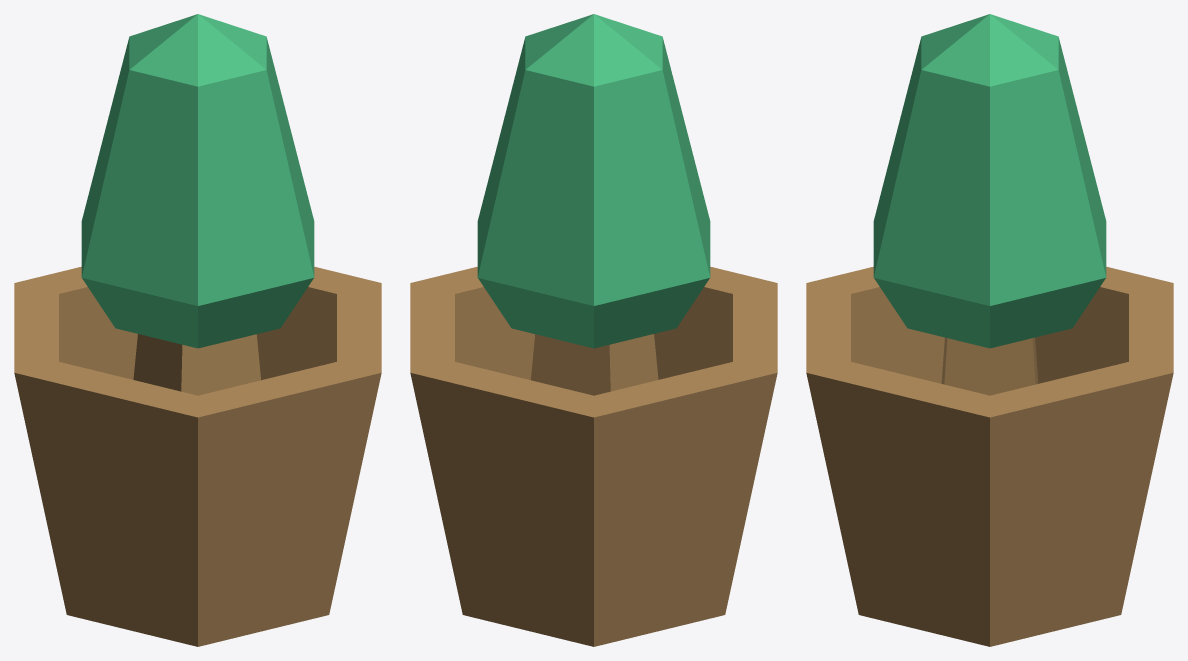
File: plantSmall3.glb
3 views of the same model, side by side, from view 1: azimuth 30°, elevation 25°; view 2: azimuth 150°, elevation 25°; view 3: azimuth 270°, elevation 25° (orthographic).
Visible parts, largest first — view 1: plantSmall3; view 2: plantSmall3; view 3: plantSmall3.
Part boxes in pixels (bbox=[...]): plantSmall3: bbox=[14, 14, 381, 646]; plantSmall3: bbox=[410, 14, 777, 646]; plantSmall3: bbox=[806, 14, 1173, 646].
Size of the model in its own units: 0.196 by 0.29 by 0.1697.
